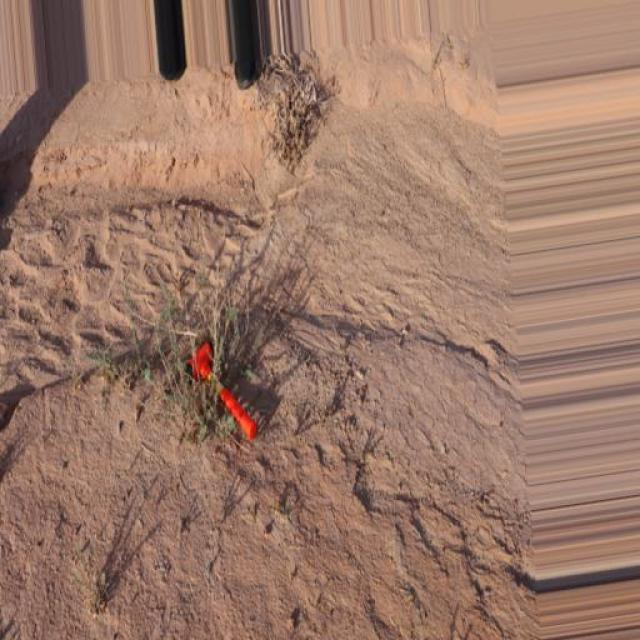mallet: (186, 340, 258, 441)
